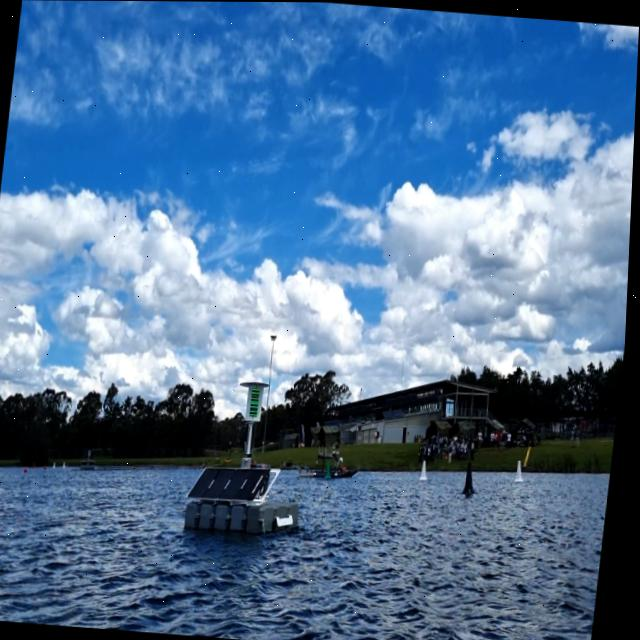led: (249, 385, 266, 420)
